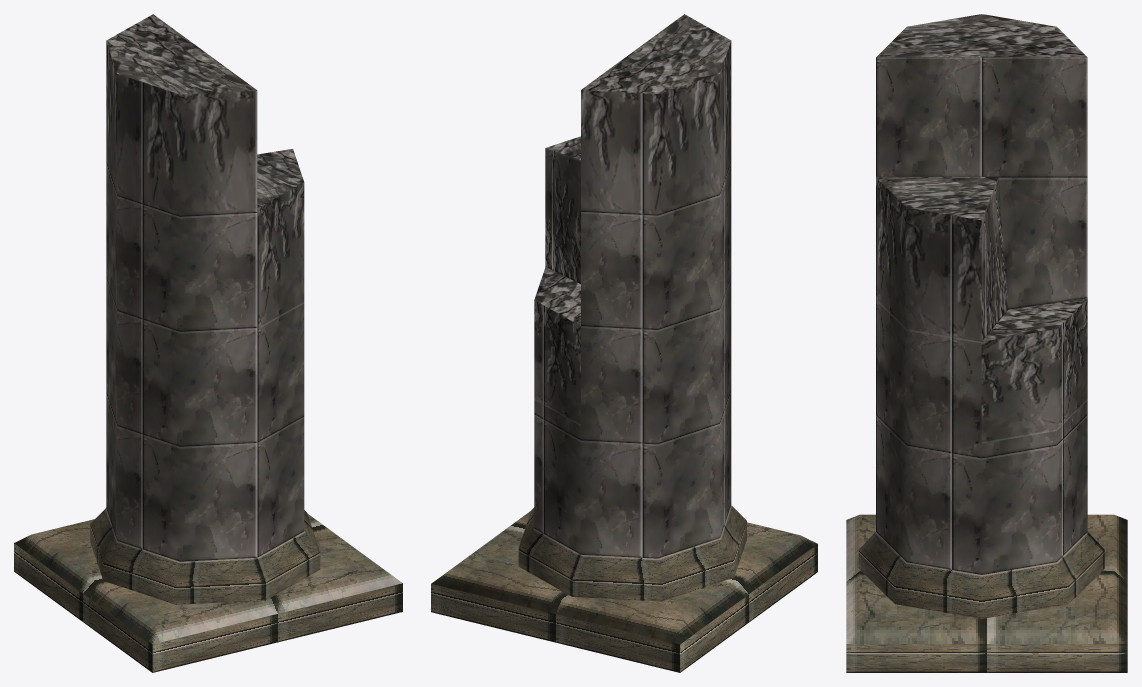
File: INST_SM_COLUMN_BROKENA.fbx
3 renders of one model, left to right at view 1: azimuth 30°, elevation 25°; view 2: azimuth 150°, elevation 25°; view 3: azimuth 270°, elevation 25°, orthographic. The views are drawn at different scales.
Parts seen in each view (by area): view 1: INST_SM_COLUMN_BROKENA; view 2: INST_SM_COLUMN_BROKENA; view 3: INST_SM_COLUMN_BROKENA.
Part boxes in pixels (box(x1,y1,x2,y2)): INST_SM_COLUMN_BROKENA: box(14, 14, 402, 672); INST_SM_COLUMN_BROKENA: box(431, 14, 817, 672); INST_SM_COLUMN_BROKENA: box(846, 14, 1127, 672).
Size of the model in its own units: 44392 by 91942 by 42518.
Materials: 4 (4 with a texture image).
